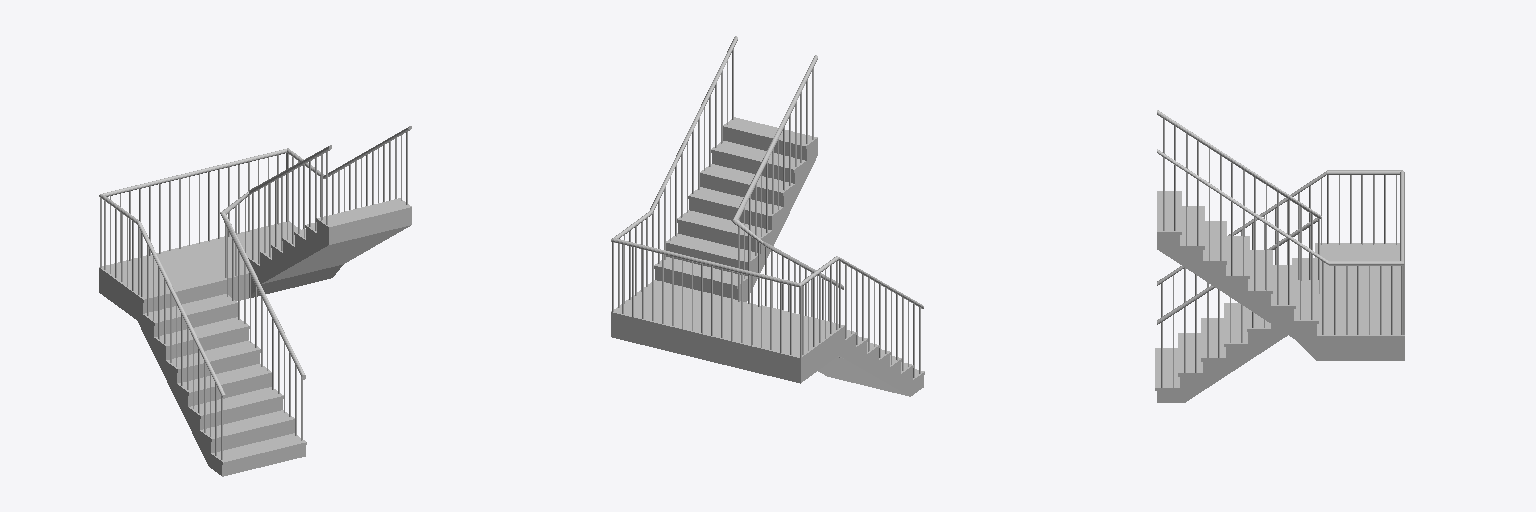
The model's file is Stair N020909.obj.
3 renders of one model, left to right at view 1: azimuth 30°, elevation 25°; view 2: azimuth 150°, elevation 25°; view 3: azimuth 270°, elevation 25°, orthographic.
Visible parts, largest first — view 1: 3D304, 3D296, 3D78, 3D111, 3D303, 3D289, 3D290, 3D291, 3D292, 3D295, 3D293, 3D294; view 2: 3D304, 3D296, 3D78, 3D111, 3D298, 3D301, 3D300, 3D302, 3D303, 3D299, 3D297; view 3: 3D304, 3D296, 3D78, 3D111, 3D303, 3D302, 3D297, 3D289, 3D292, 3D300, 3D298, 3D291 (+3 smaller).
Boxes of the visible parts, box(x1,y1,x2,y2) form: 3D304: box(99, 210, 411, 476); 3D296: box(99, 221, 300, 302); 3D78: box(99, 126, 411, 398); 3D111: box(220, 145, 331, 379); 3D303: box(316, 198, 411, 229); 3D289: box(211, 433, 306, 465); 3D290: box(200, 410, 294, 441); 3D291: box(188, 387, 283, 418); 3D292: box(177, 364, 271, 395); 3D295: box(143, 294, 237, 325); 3D293: box(166, 340, 260, 372); 3D294: box(154, 317, 249, 349); 3D304: box(611, 130, 923, 396); 3D296: box(611, 280, 844, 360); 3D78: box(611, 36, 923, 308); 3D111: box(732, 55, 843, 289); 3D298: box(666, 233, 760, 265); 3D301: box(700, 164, 794, 195); 3D300: box(688, 187, 783, 218); 3D302: box(711, 141, 806, 172); 3D303: box(723, 117, 817, 149); 3D299: box(677, 210, 771, 241); 3D297: box(654, 257, 747, 288); 3D304: box(1157, 235, 1404, 402); 3D296: box(1315, 243, 1404, 338); 3D78: box(1157, 149, 1404, 285); 3D111: box(1157, 110, 1321, 324); 3D303: box(1157, 191, 1181, 234); 3D302: box(1180, 206, 1204, 249); 3D297: box(1294, 280, 1318, 323); 3D289: box(1155, 348, 1179, 390); 3D292: box(1224, 303, 1247, 346); 3D300: box(1226, 236, 1249, 278); 3D298: box(1271, 265, 1295, 308); 3D291: box(1201, 318, 1225, 361).
Size of the model in its own units: 2.5 by 3.84 by 2.84.